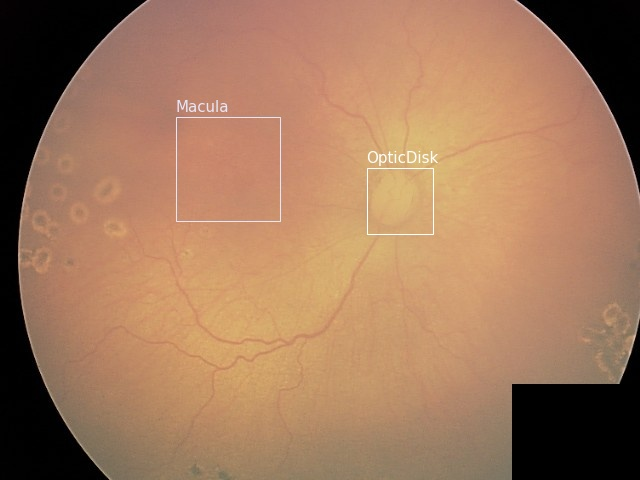Macula: (175, 116, 279, 220)
OpticDisk: (366, 167, 432, 233)
